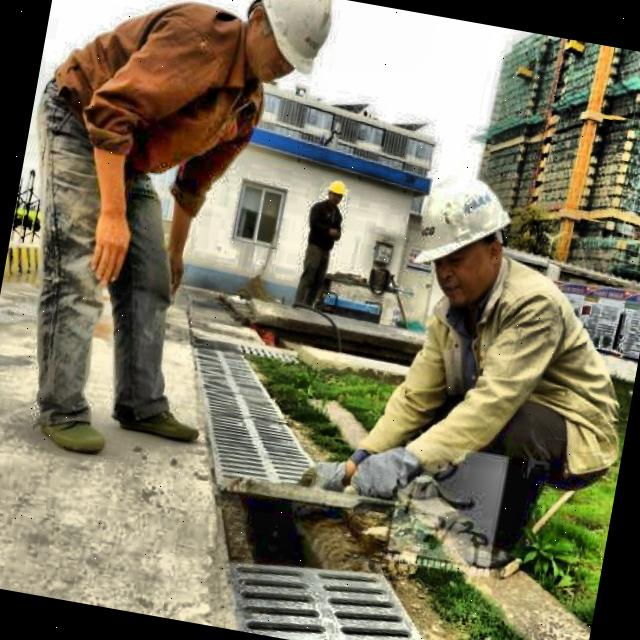helmet: (397, 154, 528, 320), (227, 0, 343, 102), (316, 170, 351, 210)
